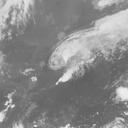cyclone: (49, 40, 90, 85)
